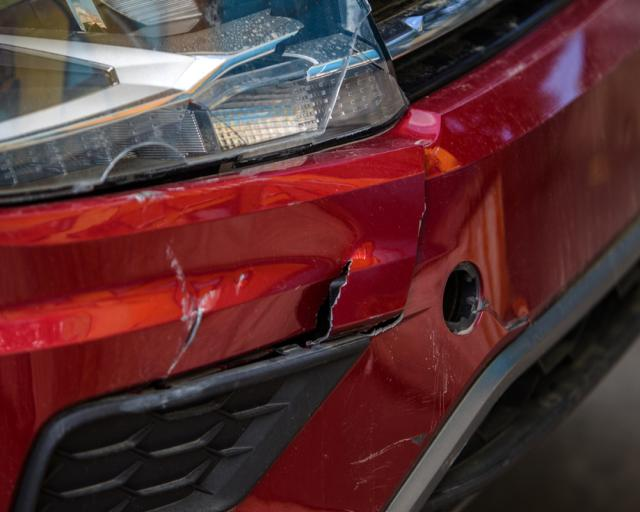crack: (364, 145, 428, 336), (166, 291, 210, 375), (313, 259, 353, 342), (472, 308, 530, 332)
